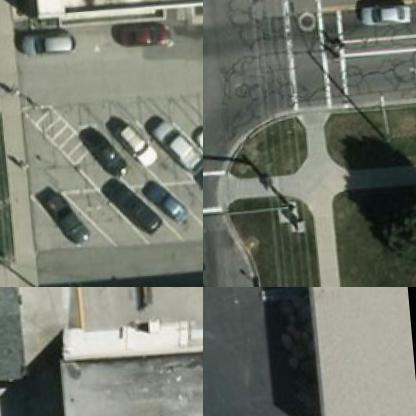car: (97, 172, 159, 236), (146, 112, 200, 172), (36, 185, 88, 245), (136, 174, 188, 226), (76, 118, 122, 176), (114, 115, 156, 166), (355, 0, 413, 30), (120, 16, 174, 46), (20, 27, 74, 56), (191, 123, 202, 172)
